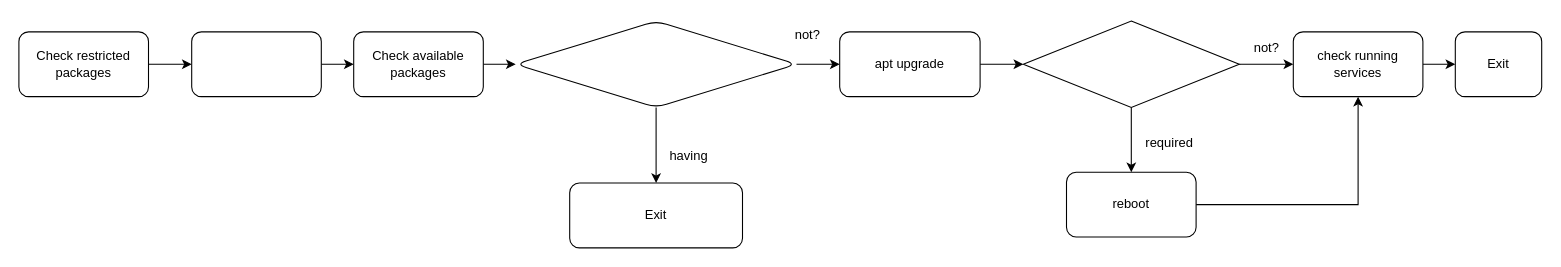
Image size: 1561x267. Some labels were removed from this diagram. Each missing label, with the centre of its shape:
"check reboot required" goes at point (1130, 63).
"Check running service" goes at point (256, 64).
"compare available/restricted packages" goes at point (655, 63).
